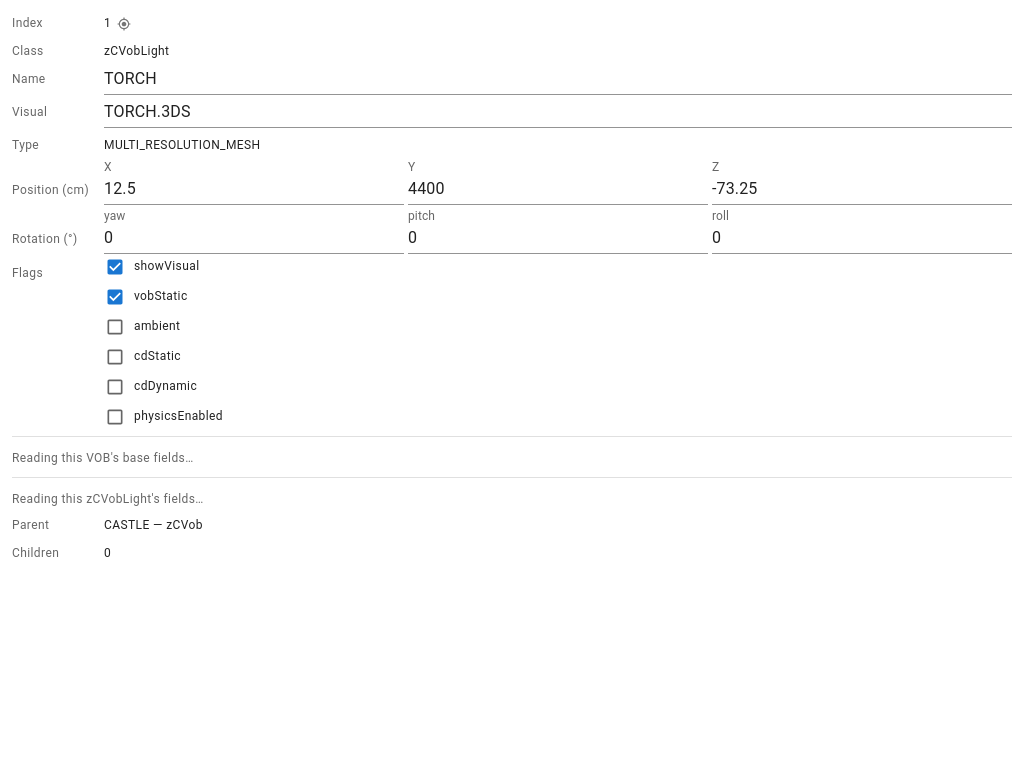
it: WorldPropertyGrid, class fields › says a coordinate has to be a number
Replace the text in the field labelled "X" with "over there". click: (254, 190)
box: [104,176,404,205]
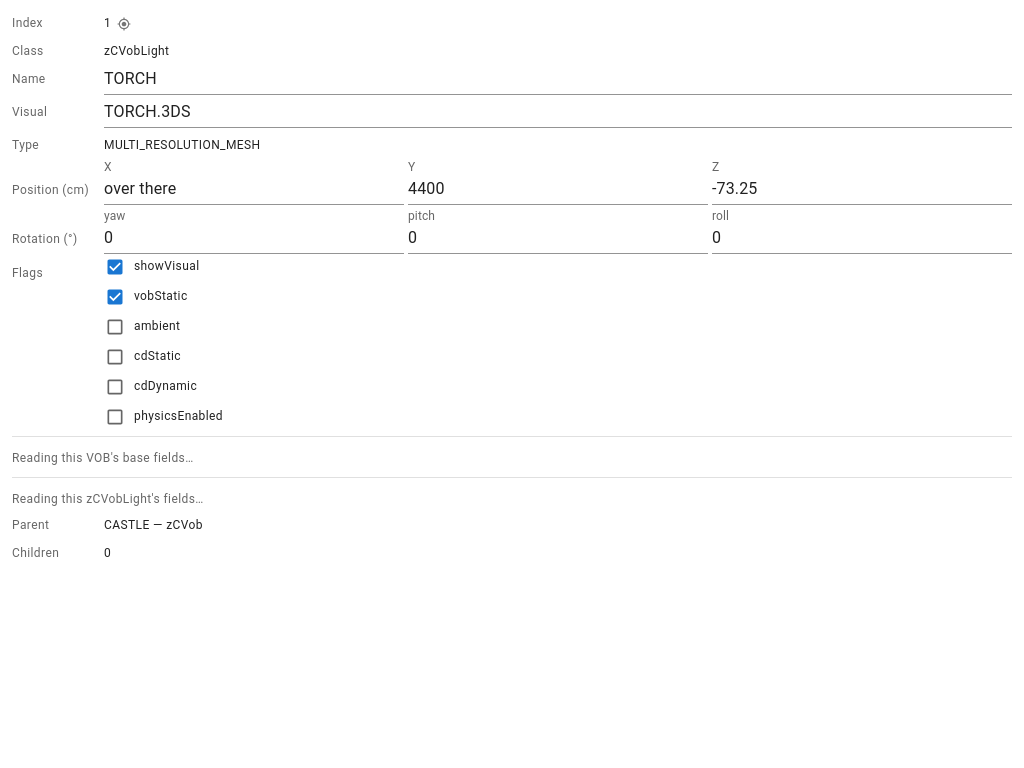
Leave the field labelled "X", box [104,176,404,205]
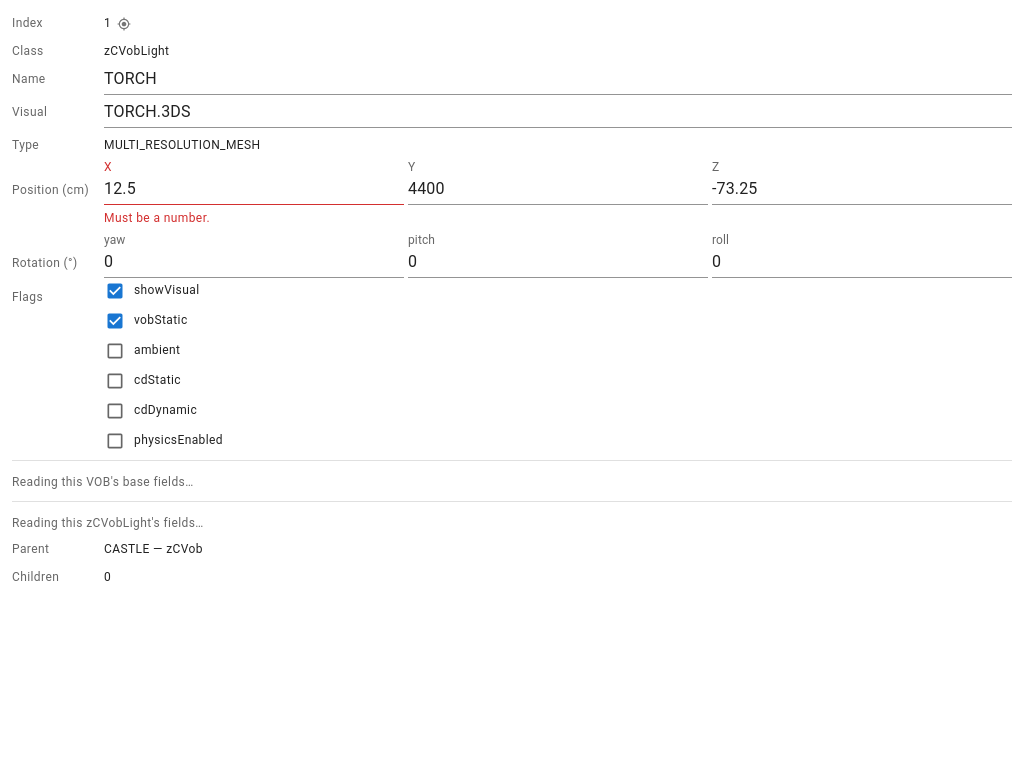
Now the text "Must be a number." is shown, box [104,211,210,225]
